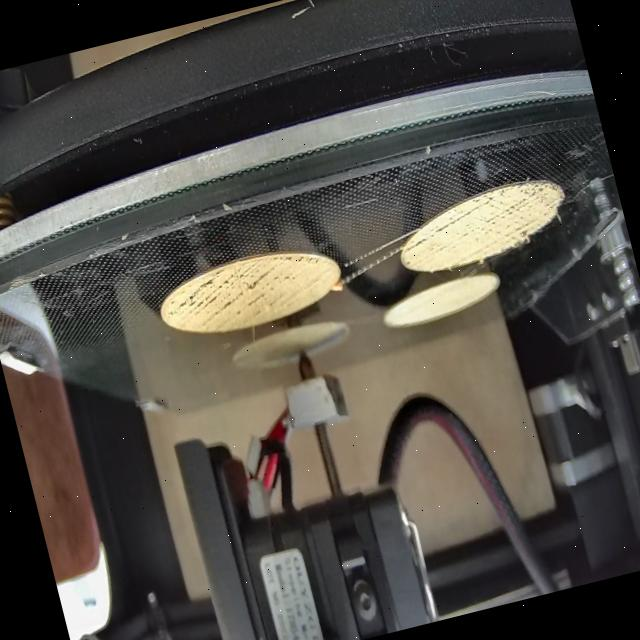under_extrusion: (158, 245, 332, 340), (394, 176, 559, 268)
